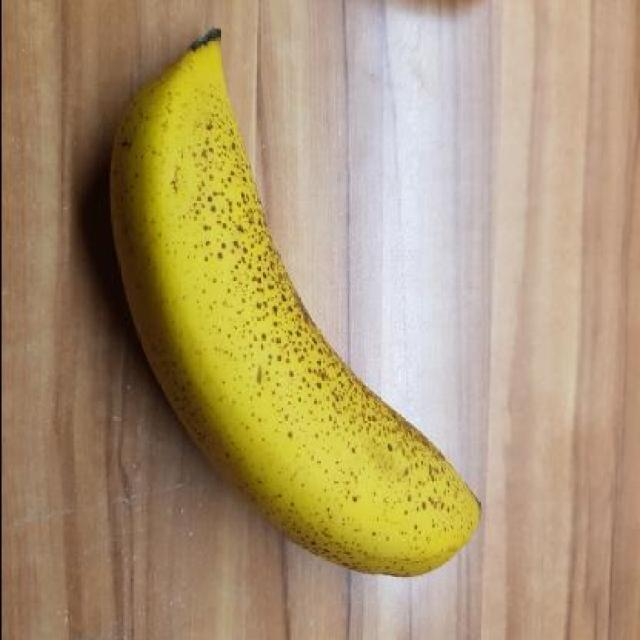Banana: (104, 30, 488, 581)
